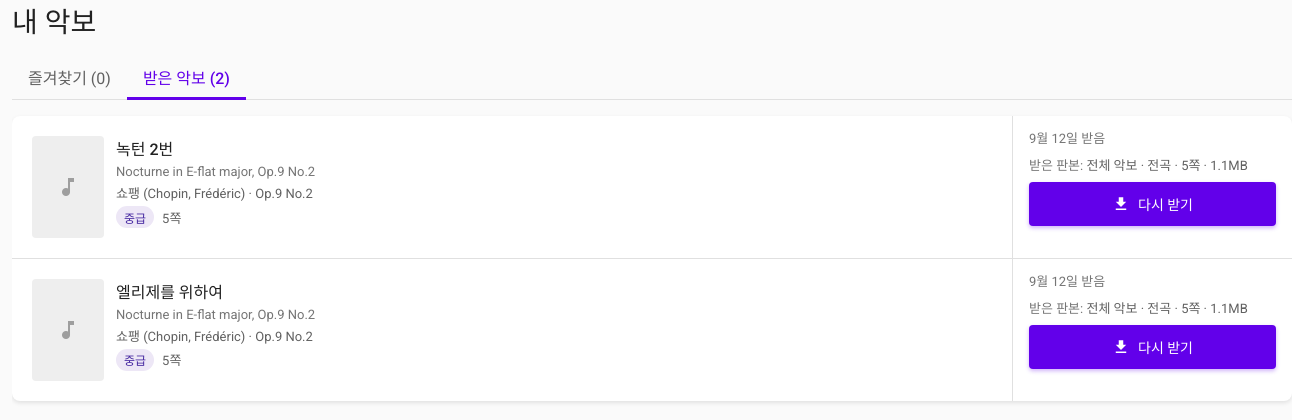
Test: 받은 악보 다시 받기 — 진행 표시 (09 §1-2-1, 03 §251 과 같다) › 한 행이 받는 중이어도 다른 행은 멀쩡하다 — 진행은 행마다 따로다
The image size is (1292, 420).
Click the 1st link with class "library-receive-btn": x=1152, y=204 x1=1029 y1=182 x2=1276 y2=226
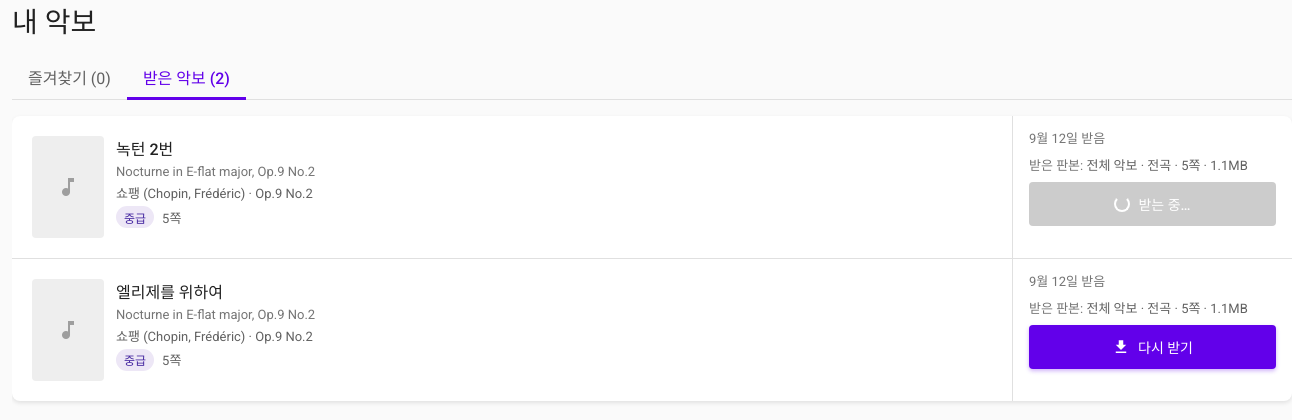
Expected: the link with class "library-receive-btn" reads "다시 받기", x1=1029 y1=325 x2=1276 y2=369
Now the text "받는 중…" is shown, box x1=1029 y1=182 x2=1276 y2=226
